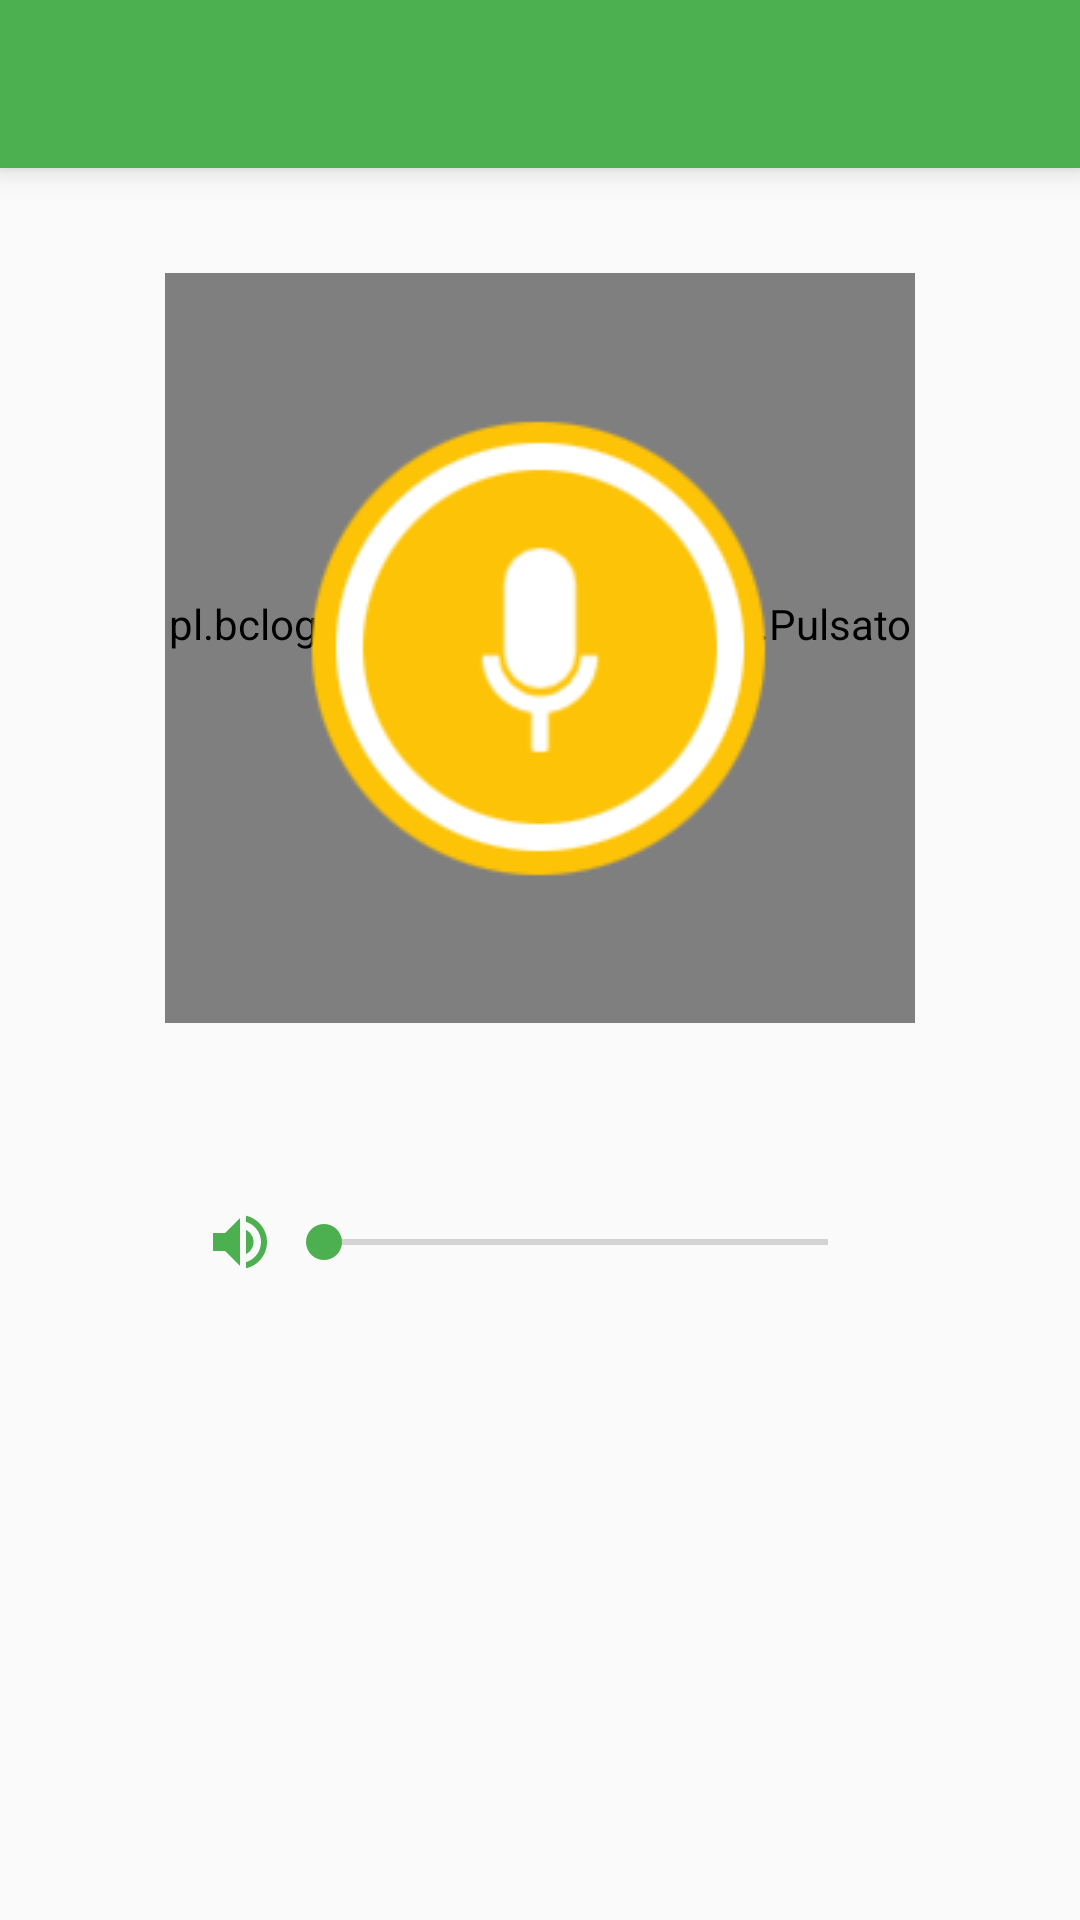

Point at icon controls on the screen. Image size 1080*1920, points as (x=x, y=y).
volume up: (x=240, y=1242)
